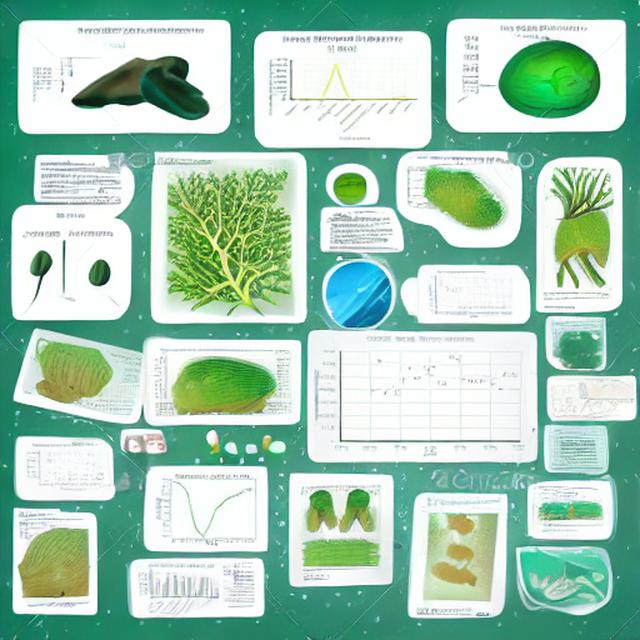Graph: (313, 334, 528, 460), (263, 32, 422, 147), (156, 467, 267, 550), (426, 268, 515, 322), (136, 561, 221, 612), (24, 443, 105, 494), (576, 378, 635, 413)
